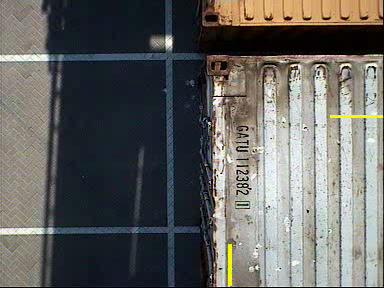groundmarker_2: (190, 62, 229, 119), (187, 231, 226, 288)
